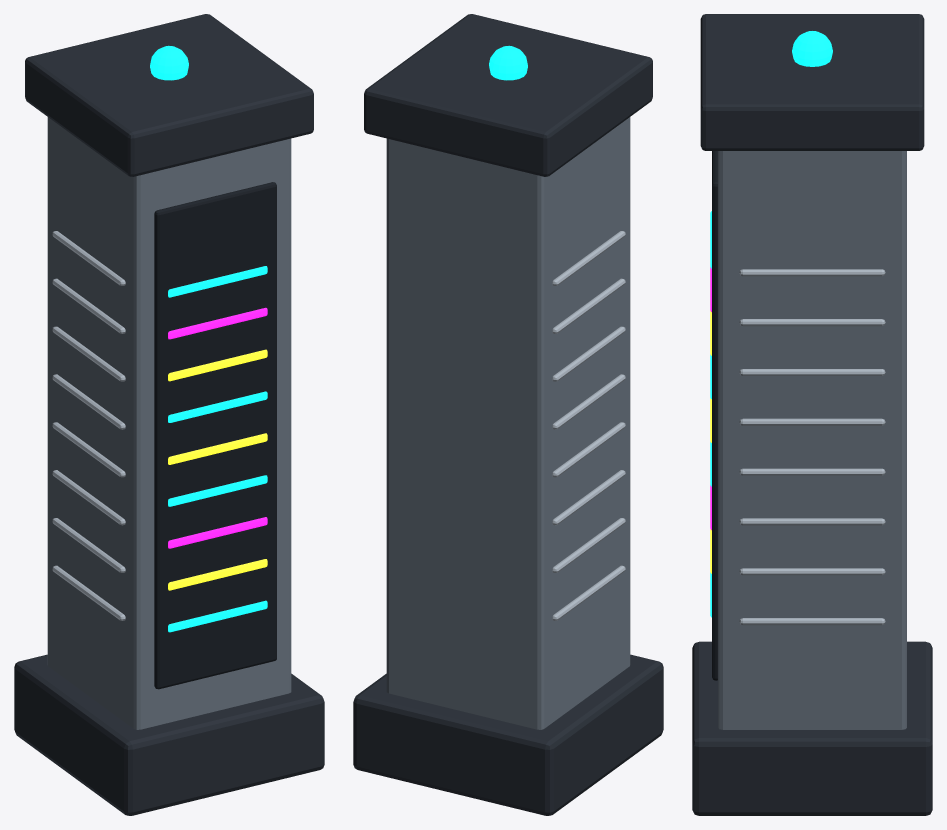
The model's file is datacore_server_tower.glb.
The picture shows the model from 3 angles, left to right: view 1: azimuth 30°, elevation 25°; view 2: azimuth 150°, elevation 25°; view 3: azimuth 270°, elevation 25°; orthographic projection. The views are drawn at different scales.
Parts seen in each view (by area): view 1: Server_Column, Front_Bay, Top_Cap, Server_Base, Top_Beacon, LedRow_2, LedRow_4, LedRow_7, LedRow_0, LedRow_6, LedRow_3, LedRow_5 (+10 smaller); view 2: Server_Column, Top_Cap, Server_Base, Top_Beacon, Fin_-0.56_5, Fin_-0.56_6, Fin_-0.56_0, Fin_-0.56_2, Fin_-0.56_3, Fin_-0.56_4, Fin_-0.56_1, Fin_-0.56_7; view 3: Server_Column, Top_Cap, Server_Base, Front_Bay, Top_Beacon, Fin_0.56_0, Fin_0.56_1, Fin_0.56_3, Fin_0.56_6, Fin_0.56_7, Fin_0.56_2, Fin_0.56_4 (+1 smaller).
Boxes of the visible parts, <box> form: Server_Column: <box>47,117,291,729</box>; Front_Bay: <box>154,182,276,689</box>; Top_Cap: <box>25,14,313,176</box>; Server_Base: <box>14,654,324,815</box>; Top_Beacon: <box>150,45,188,80</box>; LedRow_2: <box>168,517,267,548</box>; LedRow_4: <box>168,433,267,464</box>; LedRow_7: <box>168,307,267,339</box>; LedRow_0: <box>168,600,267,632</box>; LedRow_6: <box>168,349,267,381</box>; LedRow_3: <box>168,475,267,506</box>; LedRow_5: <box>168,391,267,422</box>; Server_Column: <box>386,117,630,729</box>; Top_Cap: <box>364,14,652,176</box>; Server_Base: <box>353,654,663,815</box>; Top_Beacon: <box>489,45,527,80</box>; Fin_-0.56_5: <box>552,326,625,381</box>; Fin_-0.56_6: <box>552,278,625,333</box>; Fin_-0.56_0: <box>552,565,625,620</box>; Fin_-0.56_2: <box>552,470,625,525</box>; Fin_-0.56_3: <box>552,422,625,477</box>; Fin_-0.56_4: <box>552,374,625,429</box>; Fin_-0.56_1: <box>552,518,625,572</box>; Fin_-0.56_7: <box>552,231,625,285</box>; Server_Column: <box>718,151,906,729</box>; Top_Cap: <box>700,14,924,150</box>; Server_Base: <box>692,641,932,815</box>; Front_Bay: <box>712,151,717,680</box>; Top_Beacon: <box>792,31,832,66</box>; Fin_0.56_0: <box>739,618,885,625</box>; Fin_0.56_1: <box>739,568,885,575</box>; Fin_0.56_3: <box>739,468,885,475</box>; Fin_0.56_6: <box>739,319,885,326</box>; Fin_0.56_7: <box>739,269,885,276</box>; Fin_0.56_2: <box>739,518,885,525</box>; Fin_0.56_4: <box>739,418,885,425</box>.
Bounding box in the file's own units: 1.4 × 4.72 × 1.4.
